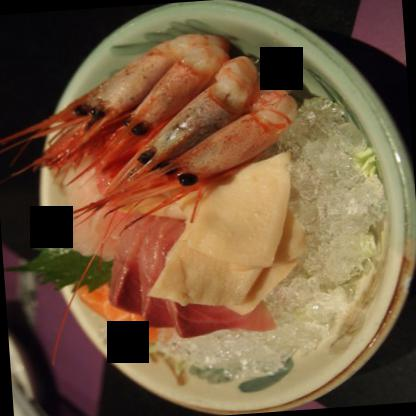shrimp: (64, 80, 300, 228), (0, 33, 232, 176), (97, 55, 270, 194), (83, 47, 235, 169)
